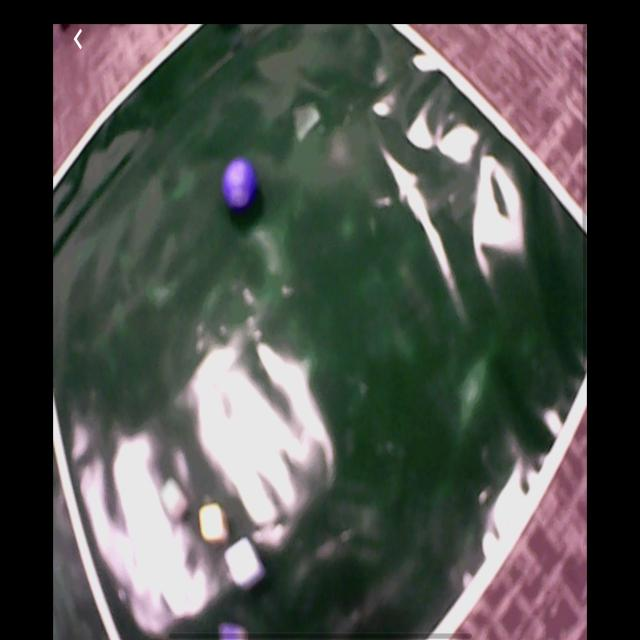ball: (222, 157, 256, 213)
